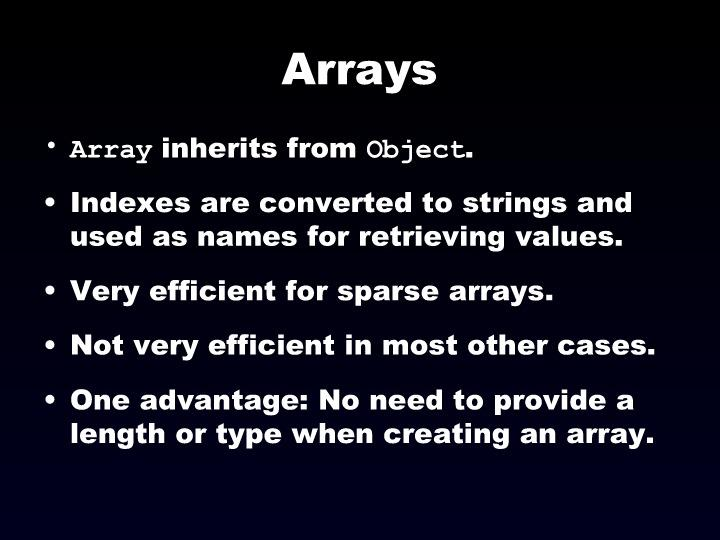paragraph: (35, 126, 669, 463)
title: (272, 39, 446, 100)
